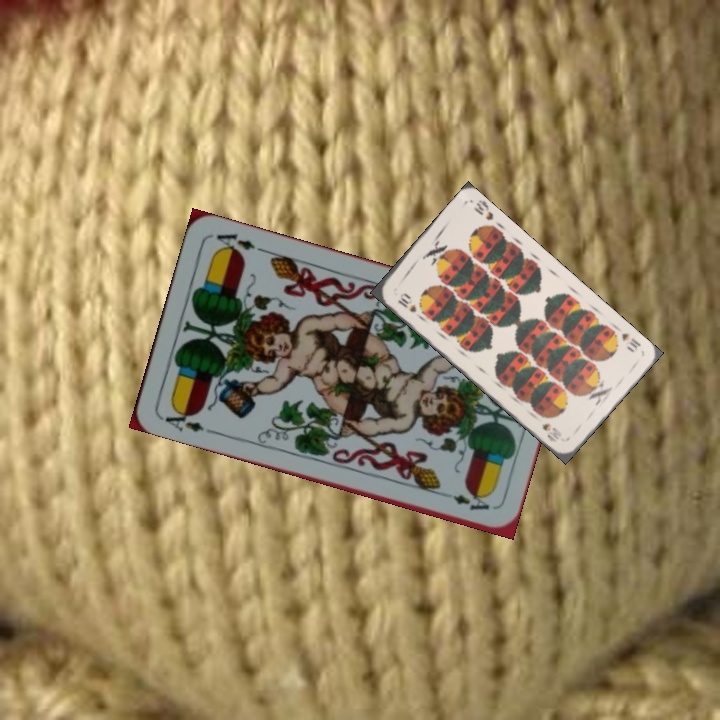EA: (157, 403, 207, 435)
S10: (617, 329, 643, 355), (394, 290, 419, 315)
